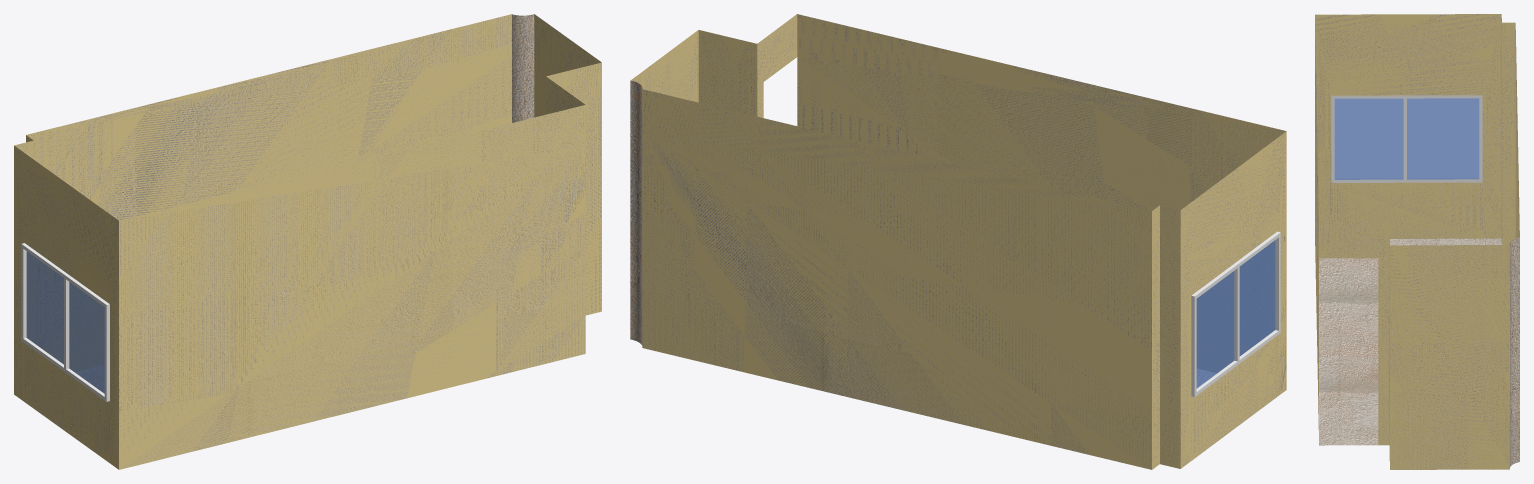
Rendered from DES029.obj.
3 renders of one model, left to right at view 1: azimuth 30°, elevation 25°; view 2: azimuth 150°, elevation 25°; view 3: azimuth 270°, elevation 25°, orthographic. The views are drawn at different scales.
Visible parts, largest first — view 1: Mesh6 DES029 Model, Mesh1 ventana2_1 DES029 Model; view 2: Mesh6 DES029 Model, Mesh1 ventana2_1 DES029 Model; view 3: Mesh6 DES029 Model, Mesh1 ventana2_1 DES029 Model.
Part boxes in pixels (left/top/right/bottom): Mesh6 DES029 Model: left=14, top=14, right=601, bottom=469; Mesh1 ventana2_1 DES029 Model: left=21, top=243, right=109, bottom=401; Mesh6 DES029 Model: left=630, top=14, right=1286, bottom=469; Mesh1 ventana2_1 DES029 Model: left=1191, top=231, right=1280, bottom=396; Mesh6 DES029 Model: left=1315, top=14, right=1519, bottom=469; Mesh1 ventana2_1 DES029 Model: left=1331, top=95, right=1482, bottom=182.
Size of the model in its own units: 8 by 3.6 by 2.98.
7 materials, 2 textured.
